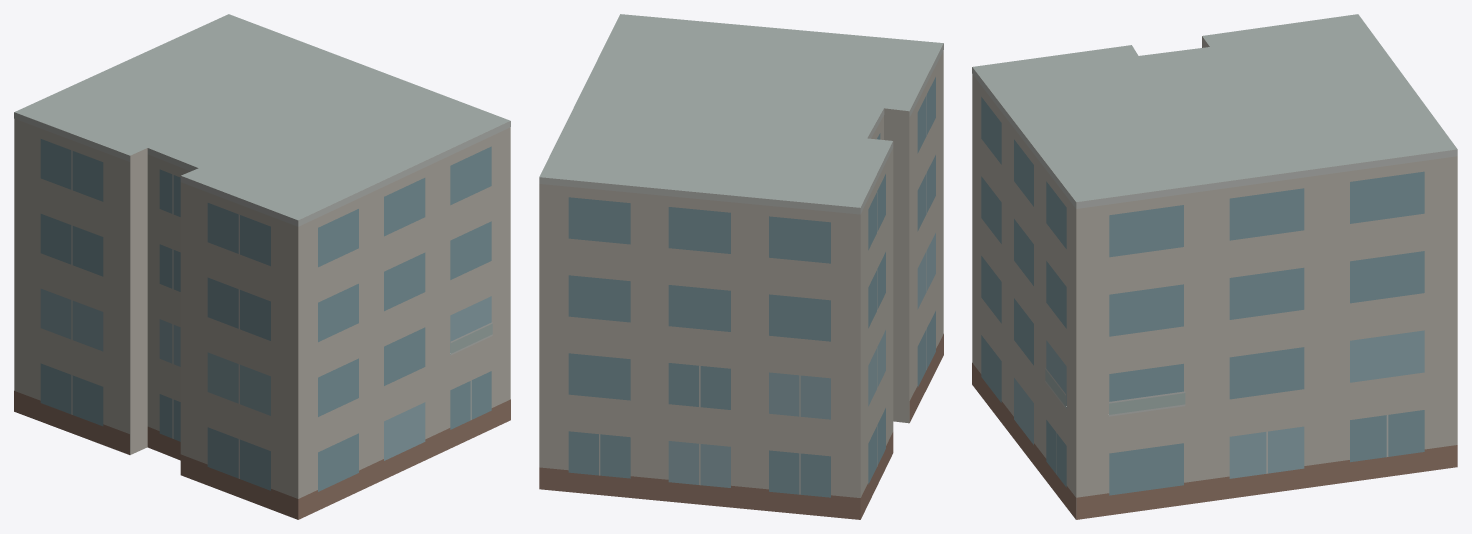
File: survey-upis-32612760.glb
The picture shows the model from 3 angles, left to right: view 1: azimuth 30°, elevation 25°; view 2: azimuth 150°, elevation 25°; view 3: azimuth 270°, elevation 25°; orthographic projection. The views are drawn at different scales.
Visible parts, largest first — view 1: survey-upis-32612760.tmp; view 2: survey-upis-32612760.tmp; view 3: survey-upis-32612760.tmp.
Boxes of the visible parts, bbox=[...] form: survey-upis-32612760.tmp: bbox=[14, 14, 510, 519]; survey-upis-32612760.tmp: bbox=[539, 14, 943, 519]; survey-upis-32612760.tmp: bbox=[972, 14, 1457, 519].
Size of the model in its own units: 14.5 by 11.4 by 15.8.
